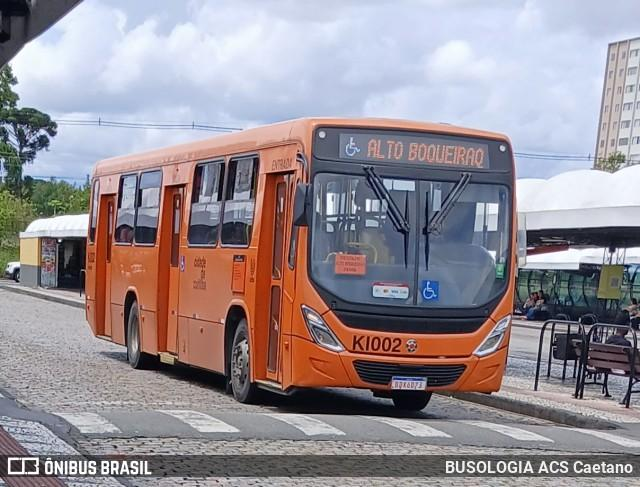ALTO BOQUEIRAO: (361, 133, 489, 172)
